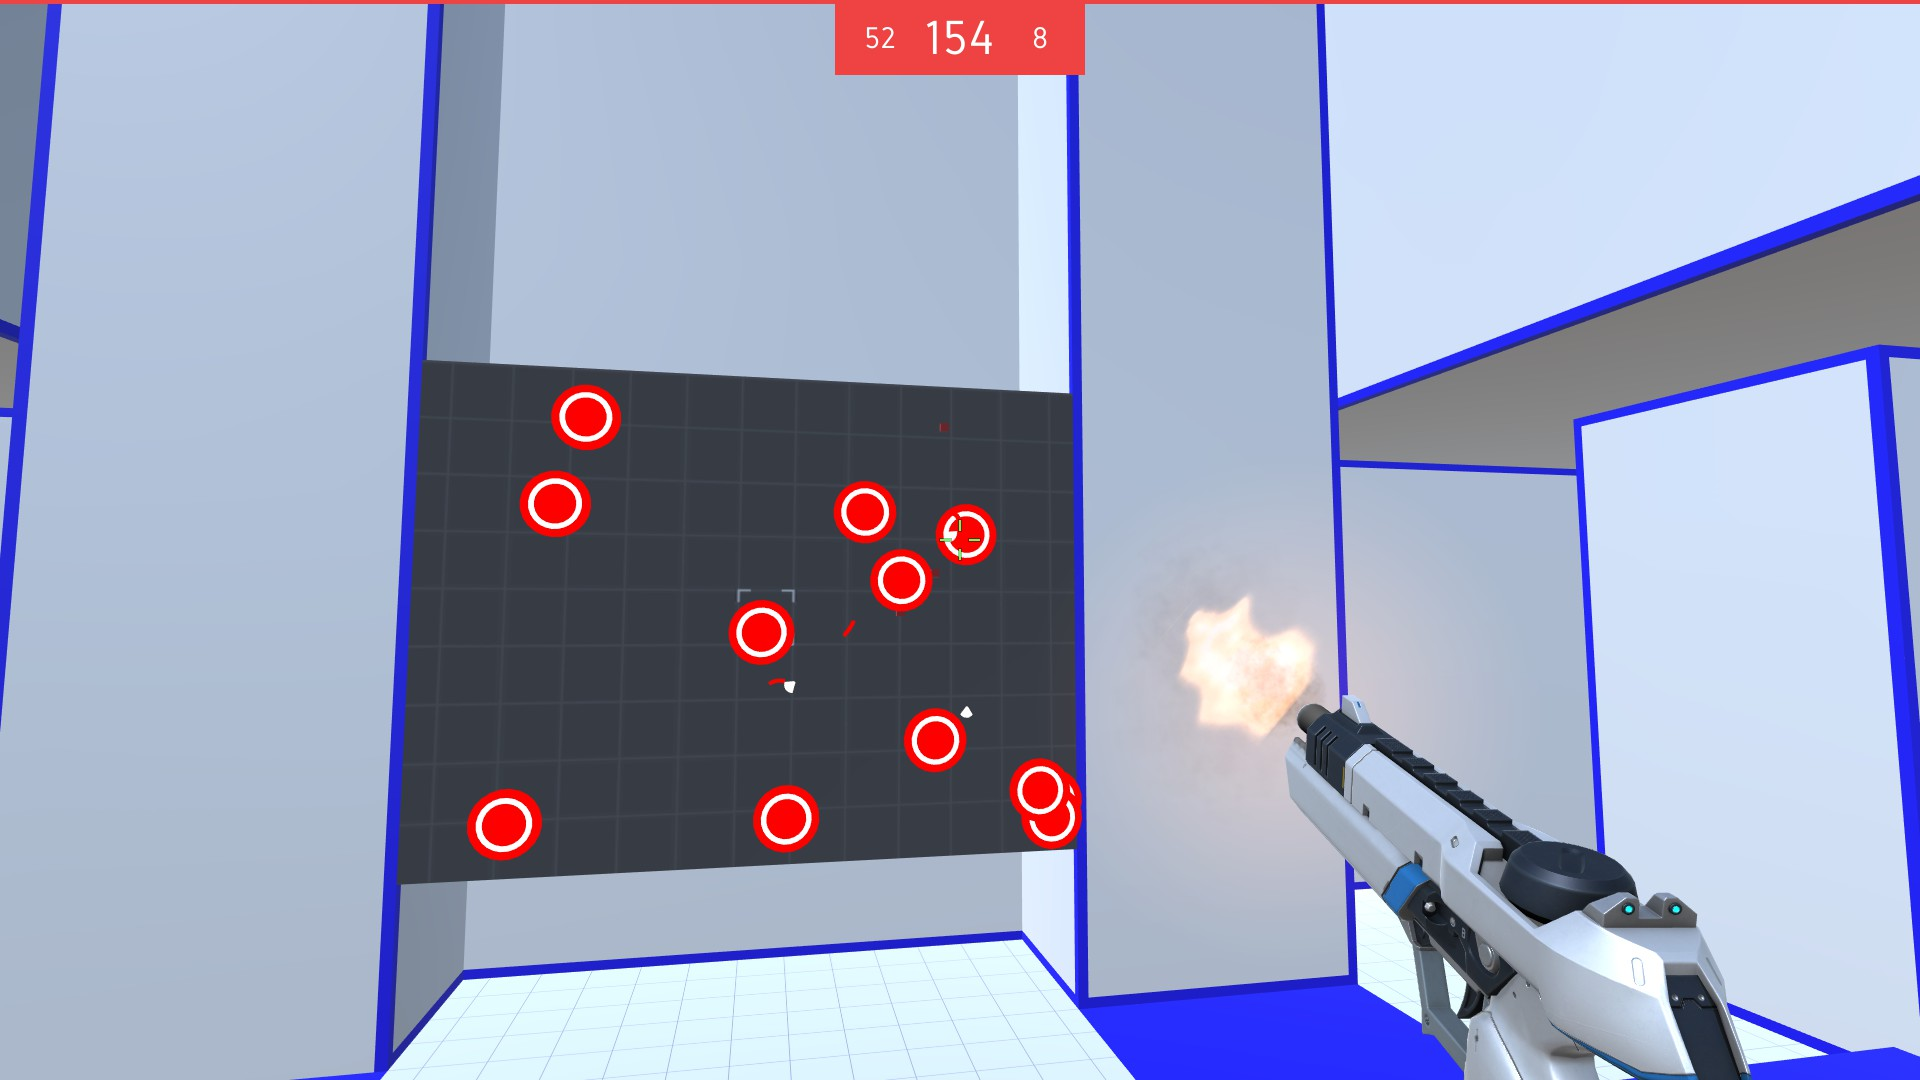target: (462, 782, 546, 864), (545, 382, 624, 456), (746, 782, 820, 856), (864, 545, 936, 618), (516, 468, 591, 538), (829, 476, 898, 545), (902, 707, 969, 775), (727, 599, 796, 665), (1007, 756, 1069, 818), (936, 501, 996, 564), (1021, 793, 1083, 851)
